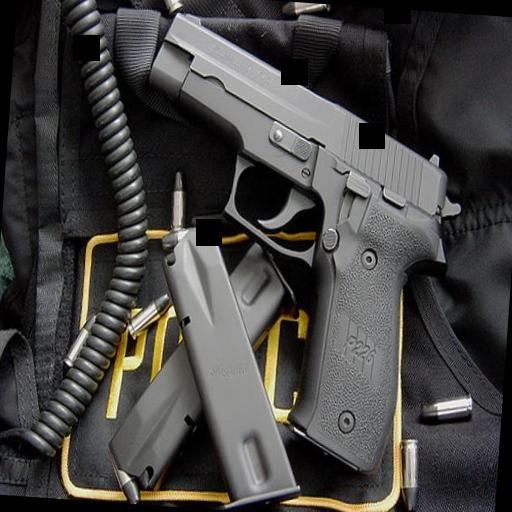Handgun: (118, 6, 468, 484)
